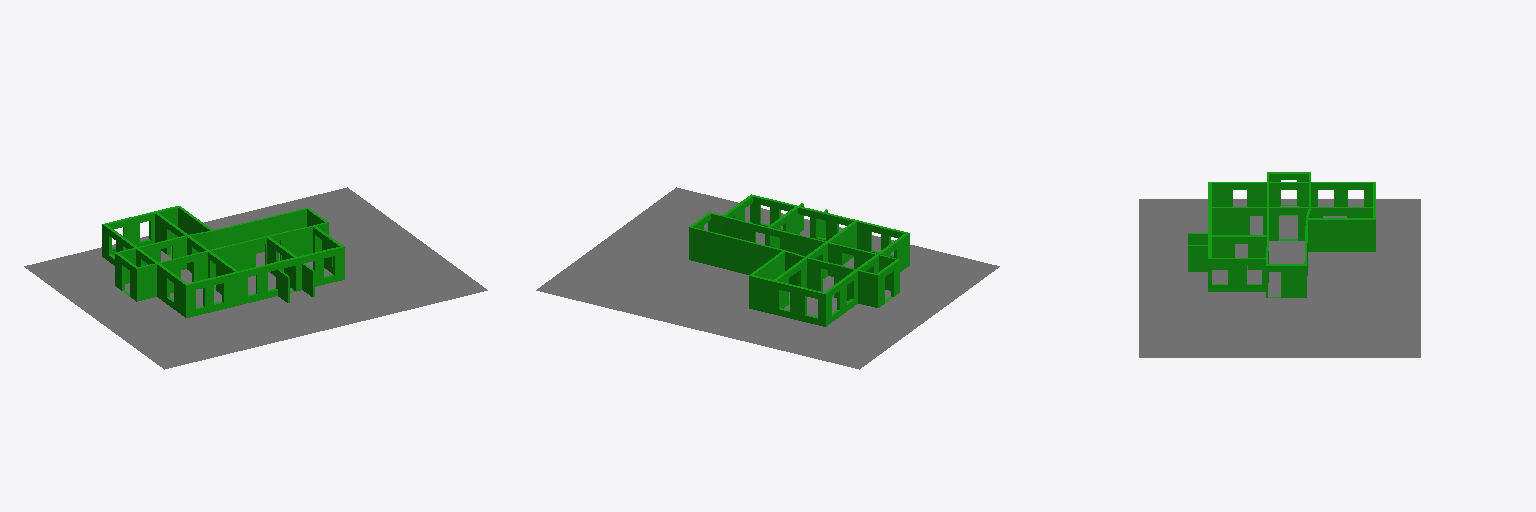
File: groundfloorv2.obj
3 views of the same model, side by side, from view 1: azimuth 30°, elevation 25°; view 2: azimuth 150°, elevation 25°; view 3: azimuth 270°, elevation 25° (orthographic).
Visible parts, largest first — view 1: Plane001, Plane002; view 2: Plane001, Plane002; view 3: Plane001, Plane002.
Boxes of the visible parts, x1,y1,x2,y2 form: Plane001: [24, 187, 487, 369]; Plane002: [102, 206, 344, 317]; Plane001: [536, 187, 999, 369]; Plane002: [689, 194, 909, 326]; Plane001: [1139, 199, 1420, 357]; Plane002: [1188, 172, 1375, 297].
Bounding box in the file's own units: 104 × 13.73 × 78.